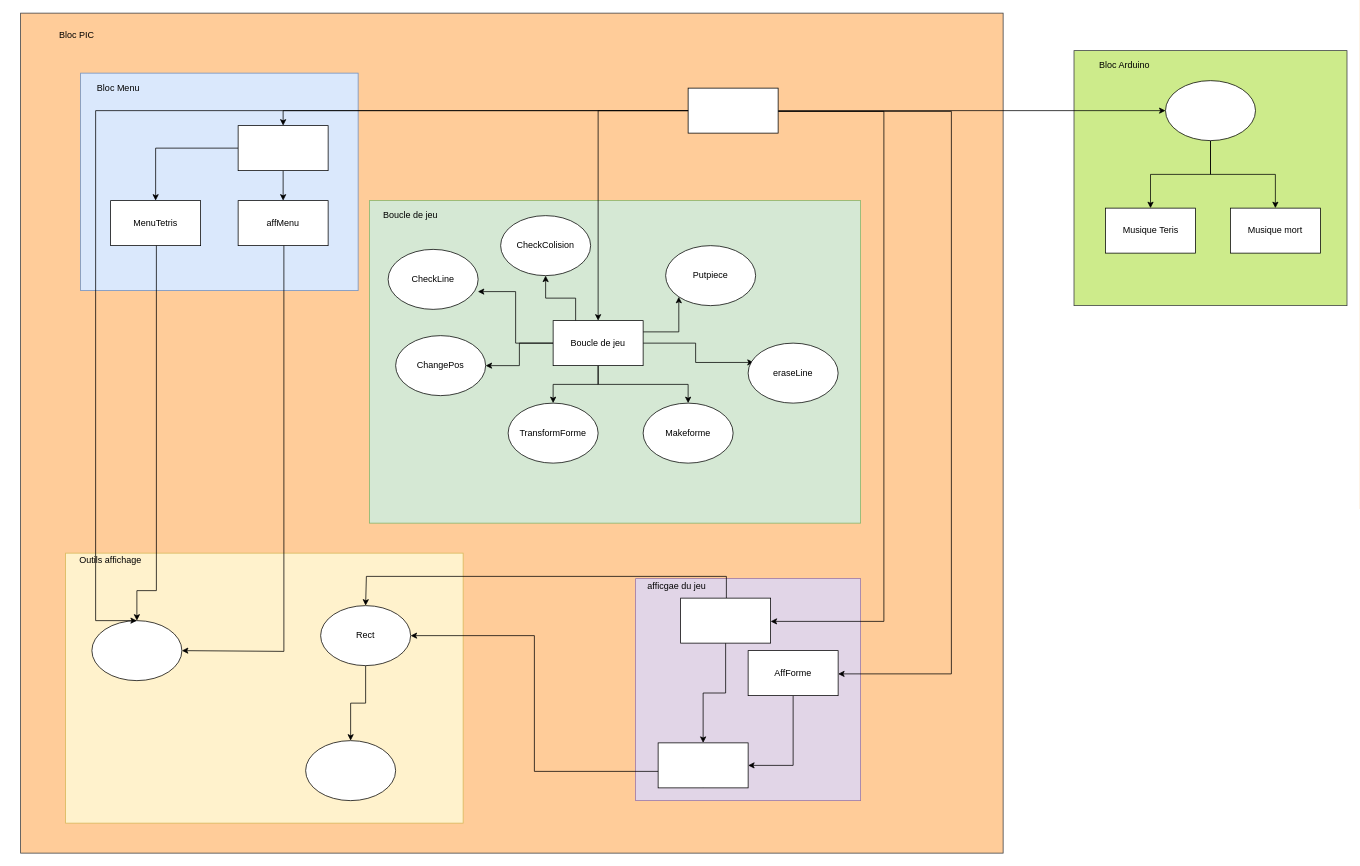
This 1360x866 diagram has some shape labels left out. The shapes that lost their labels are listed below. From the top down, each one's centre as x and y in pixels, then its label:
At pixel 732 110: "MAIN".
At pixel 1210 110: "Arduino".
At pixel 282 148: "MENU".
At pixel 725 620: "AffTab".
At pixel 136 650: "fillScreen".
At pixel 350 770: "plotPixel".
At pixel 702 765: "DrawCube".
